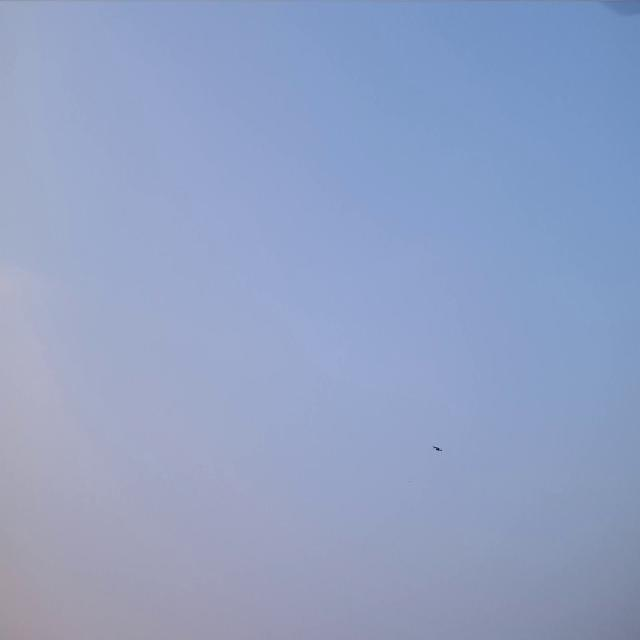UAV: (432, 444, 442, 454)
